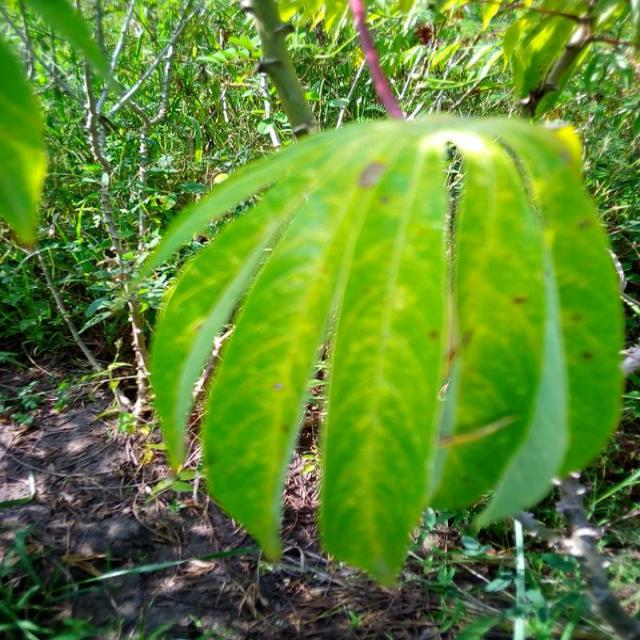cassava leaf: (136, 112, 626, 589)
